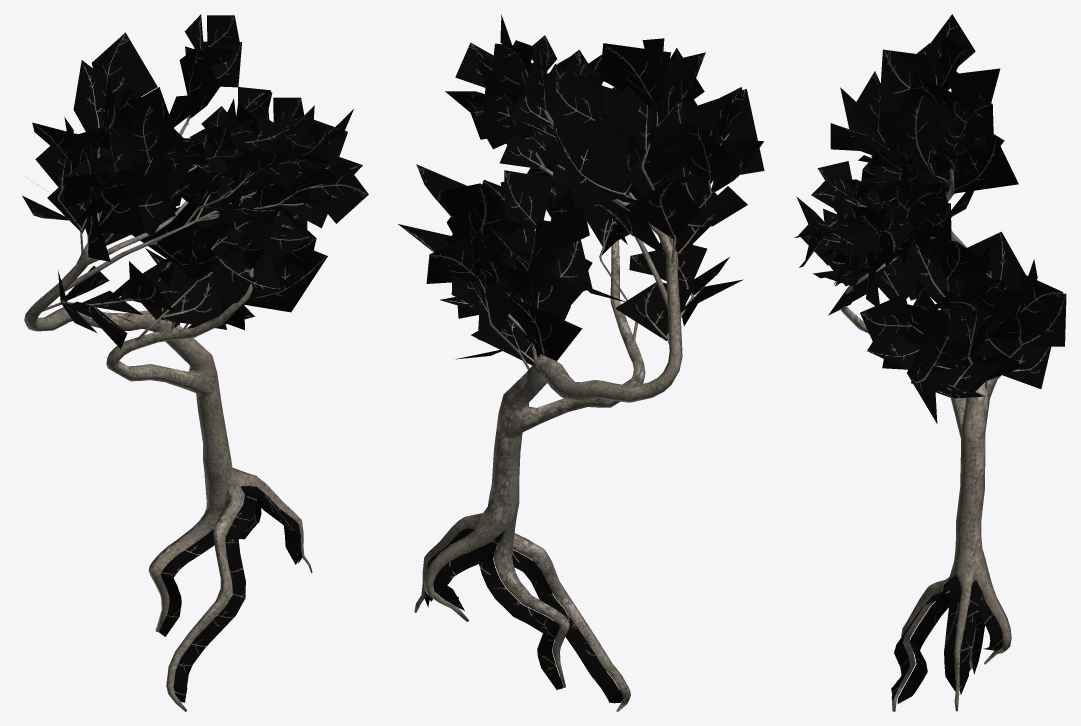
File: SM_Tree_bent_03.fbx
3 renders of one model, left to right at view 1: azimuth 30°, elevation 25°; view 2: azimuth 150°, elevation 25°; view 3: azimuth 270°, elevation 25°, orthographic. The views are drawn at different scales.
Parts seen in each view (by area): view 1: SM_Tree_bent_03; view 2: SM_Tree_bent_03; view 3: SM_Tree_bent_03.
Part boxes in pixels (x1,y1,x2,y2): SM_Tree_bent_03: [22, 14, 368, 711]; SM_Tree_bent_03: [398, 14, 764, 711]; SM_Tree_bent_03: [794, 14, 1066, 711].
Size of the model in its own units: 632 by 489 by 1310.
Materials: 2 (2 with a texture image).
